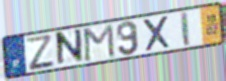9: (115, 20, 141, 57)
I: (179, 10, 192, 48)
M: (83, 22, 117, 64)
N: (56, 26, 85, 69)
X: (141, 14, 173, 53)
Z: (24, 33, 56, 72)
